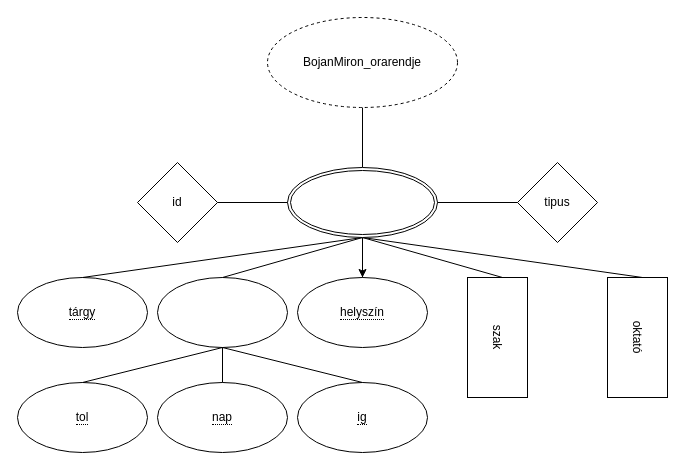
Some shapes in this 685 by 470 pixel diagram are drawn without their labels. The centre of each missing label's shape, as x and y in pixels:
"idopont" belongs at (x=222, y=312).
"Óra" belongs at (x=362, y=202).
